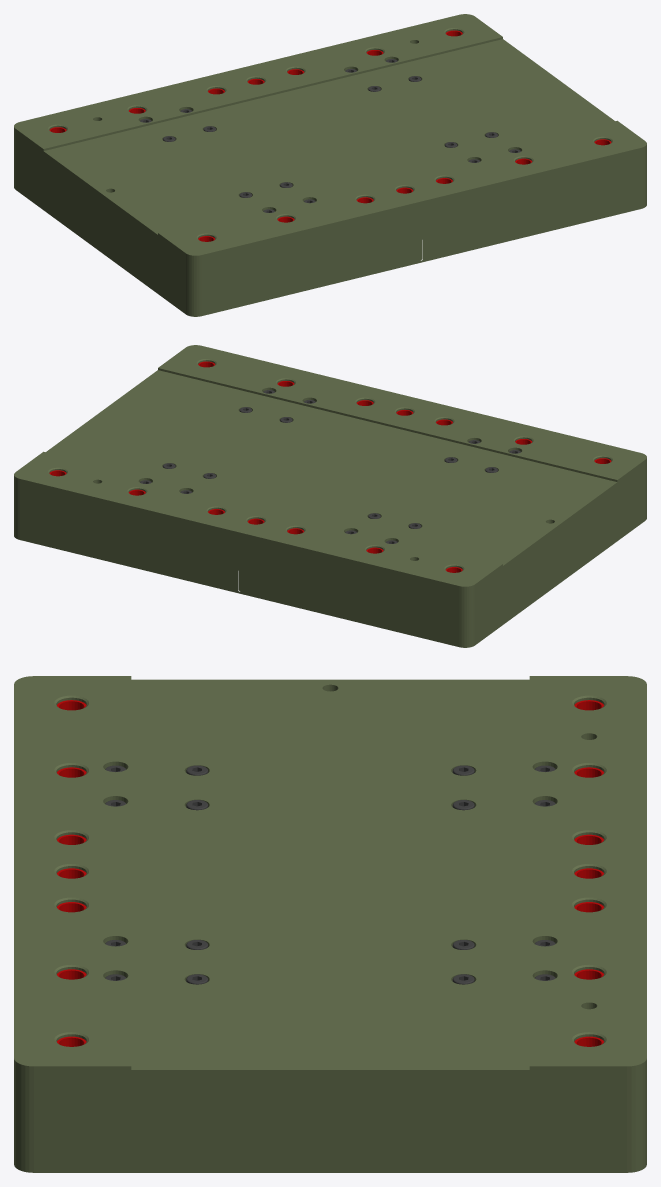
The model's file is afd620_mount.dae.
The picture shows the model from 3 angles, top to bottom: view 1: azimuth 30°, elevation 25°; view 2: azimuth 150°, elevation 25°; view 3: azimuth 270°, elevation 25°; orthographic projection. The views are drawn at different scales.
Parts seen in each view (by area): view 1: node0; view 2: node0; view 3: node0.
Part boxes in pixels (bbox=[...]): node0: bbox=[14, 14, 646, 316]; node0: bbox=[14, 345, 646, 647]; node0: bbox=[14, 676, 646, 1172].
Size of the model in its own units: 0.2946 by 0.2019 by 0.0375.
